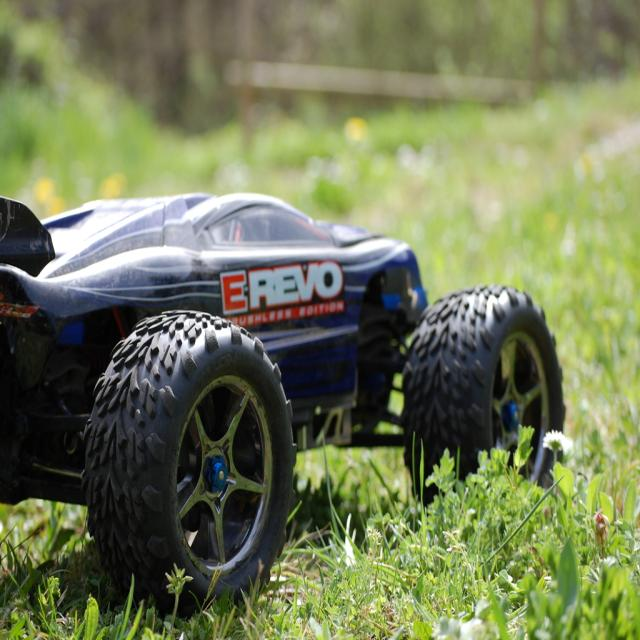Toy: (0, 192, 566, 622)
